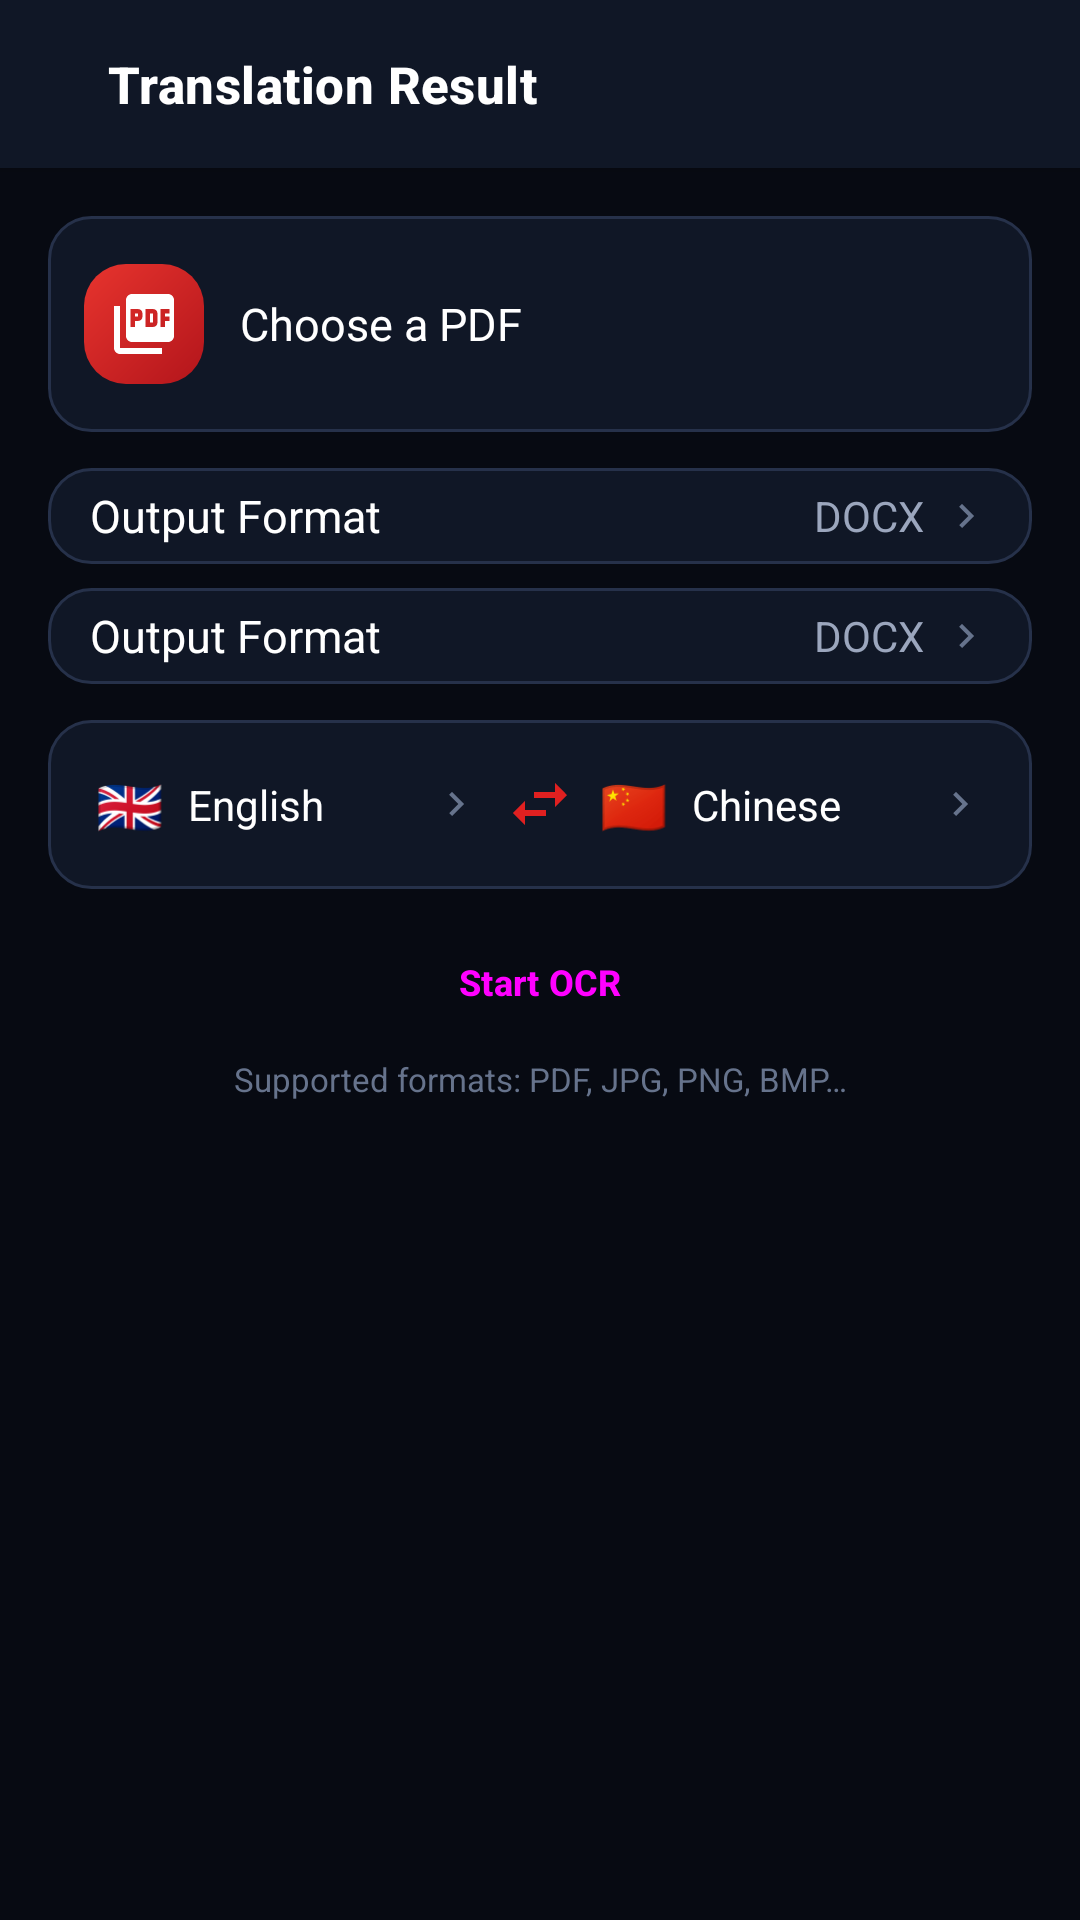

Where icons sit on this 1080×1920 app screen, as (x1, y1, x2, y2):
chevron: (959, 504, 974, 528), (959, 624, 974, 648), (449, 792, 464, 816), (953, 792, 968, 816)
Swap languages: (513, 783, 567, 825)
